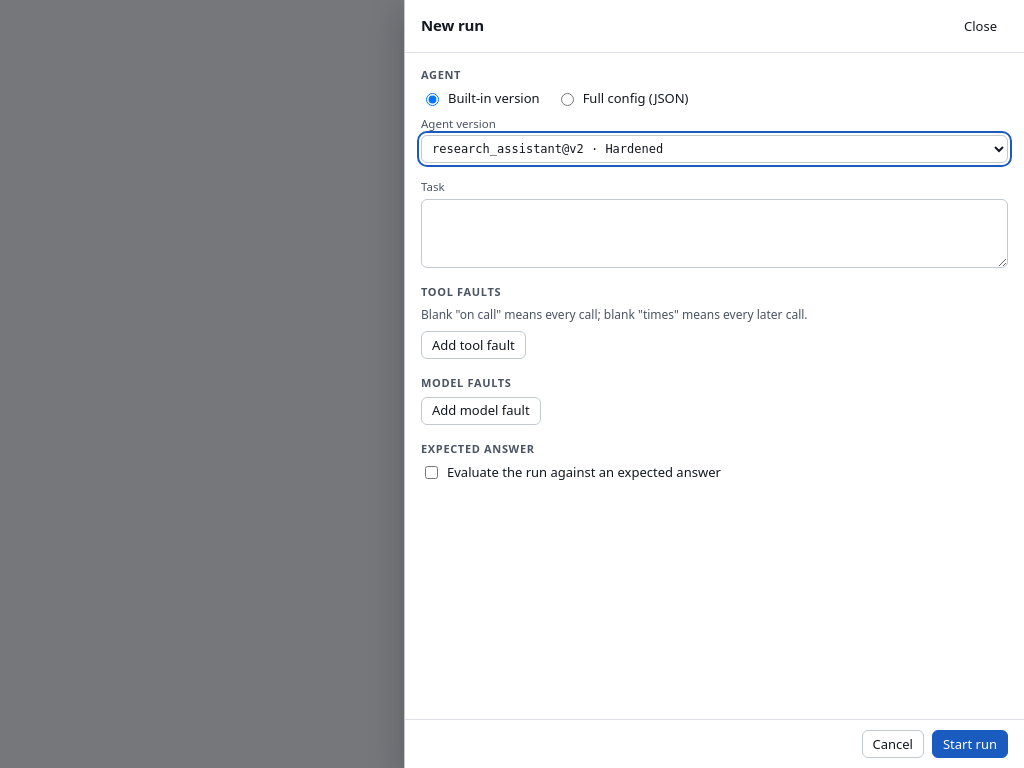
Test: NewRunDrawer › lists what to fix instead of sending an invalid form
This screenshot has width=1024, height=768.
Click the button "Add tool fault": click(473, 345) top-left (421, 331), bottom-right (526, 359)
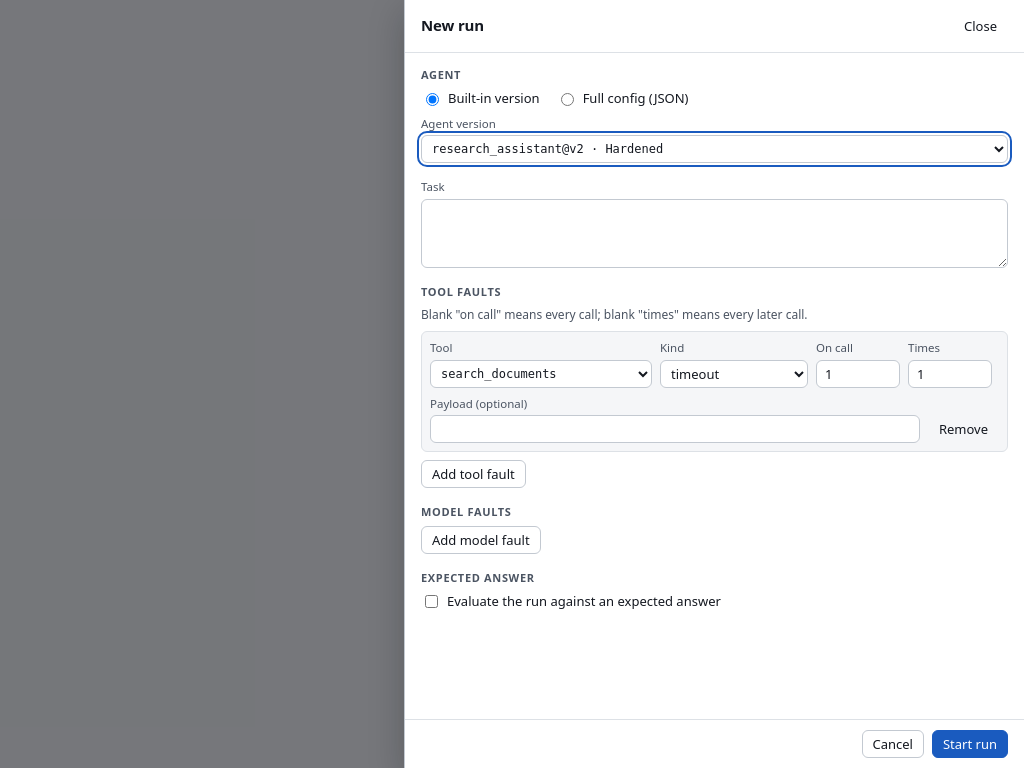
Replace the text in the field labelled "On call" with "99": (858, 374) top-left (816, 360), bottom-right (900, 388)
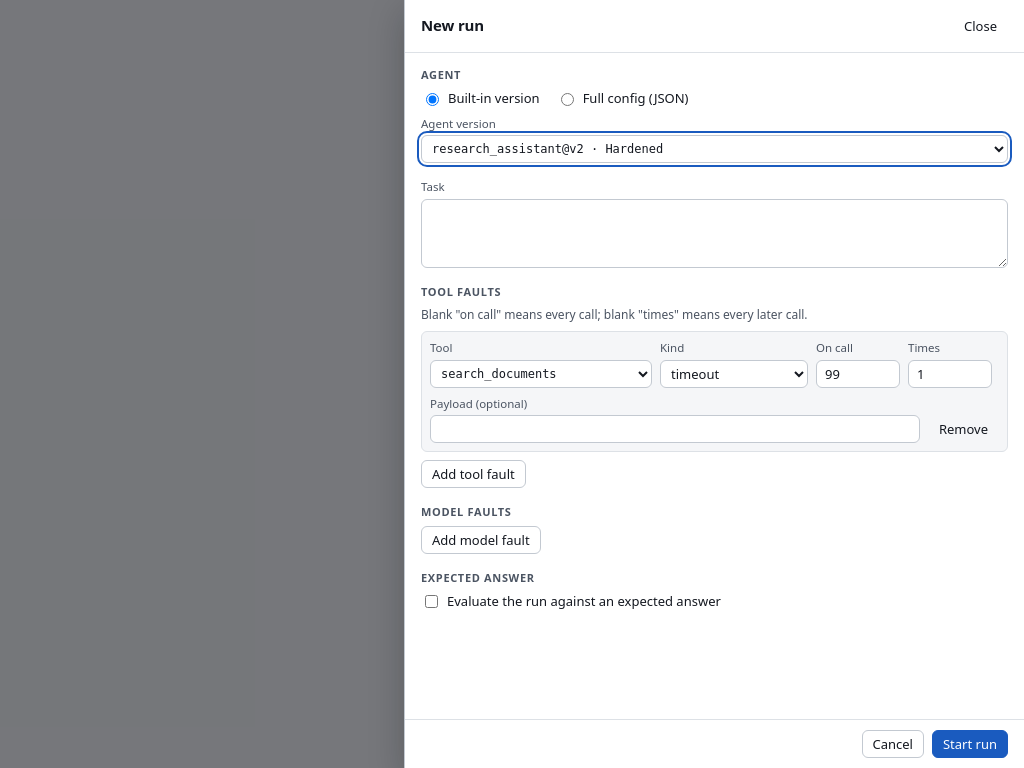
Submit the form, box top-left (421, 67), bottom-right (1008, 611)
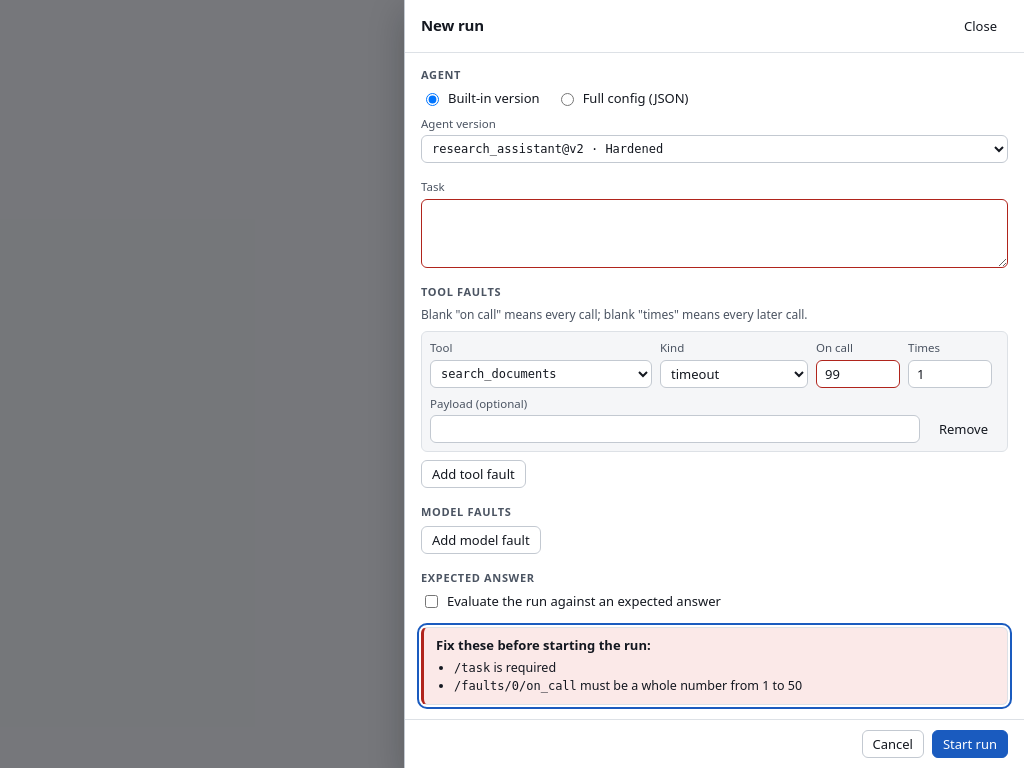
Check: the message shows "/task is required", box top-left (421, 627), bottom-right (1008, 705)
Check: the message shows "/faults/0/on_call must be a whole number from 1 to 50", box top-left (421, 627), bottom-right (1008, 705)
